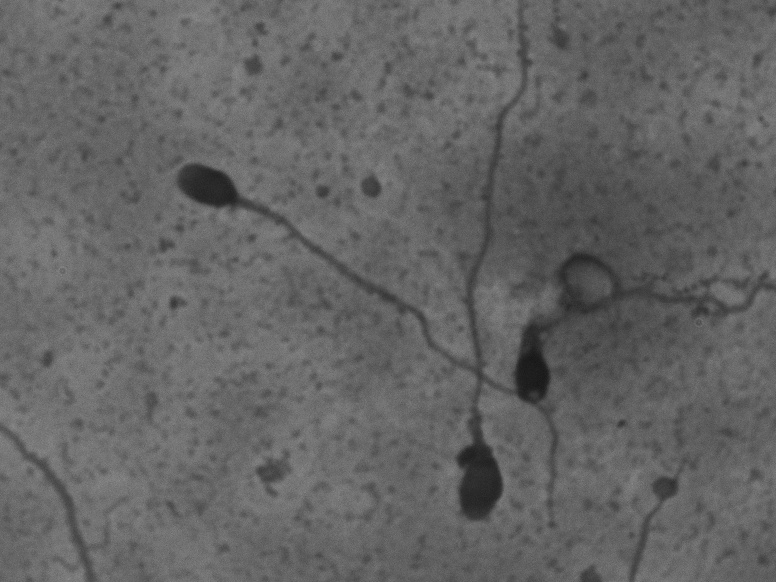Abnormal: (508, 239, 753, 408), (438, 8, 510, 525)
Normal: (168, 152, 564, 527)
